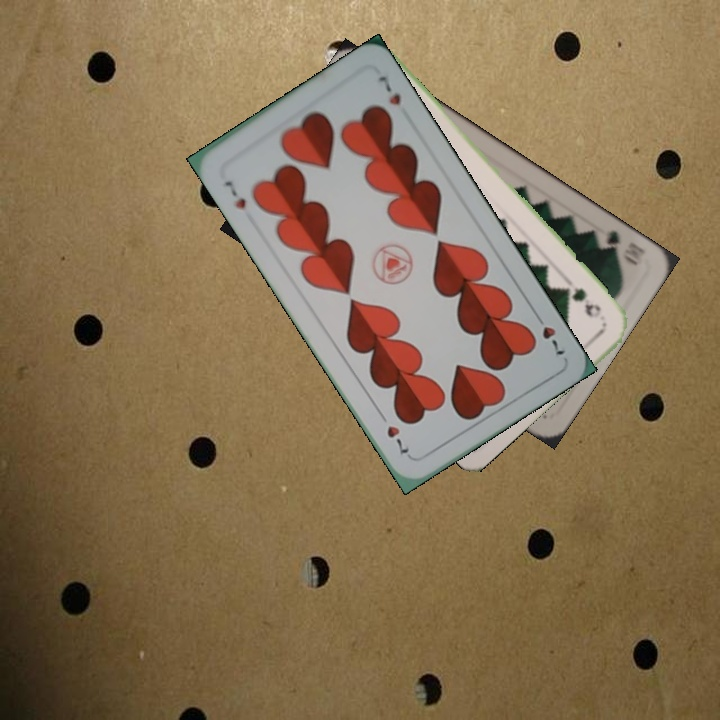G10: (591, 226, 640, 269)
G9: (568, 283, 604, 321)
H7: (529, 307, 568, 358), (220, 176, 249, 212)
